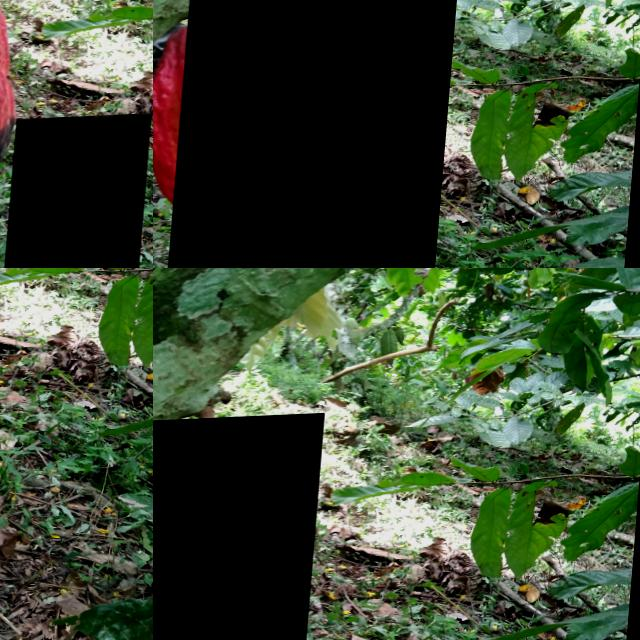Fitoftora: (167, 0, 463, 268), (153, 416, 327, 640), (6, 117, 153, 268)
